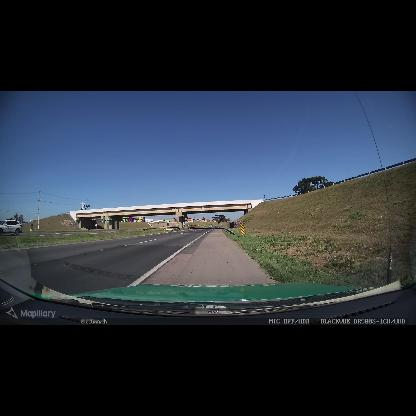O-MP: (240, 225, 245, 235), (163, 226, 165, 231)
R-15: (201, 206, 204, 210)
